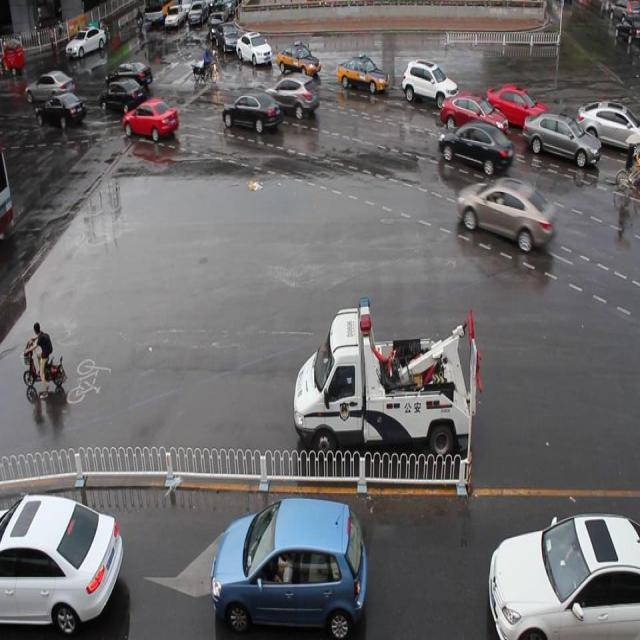bus: (286, 303, 478, 464)
car: (211, 492, 367, 640), (482, 507, 640, 640), (0, 490, 124, 640), (456, 170, 556, 255), (521, 104, 602, 171), (436, 121, 514, 176), (484, 77, 550, 132), (439, 88, 508, 137), (575, 99, 640, 151), (402, 54, 459, 110), (123, 96, 183, 145), (263, 73, 318, 123), (337, 50, 392, 100), (222, 91, 282, 134), (276, 38, 322, 77), (236, 25, 272, 73), (216, 24, 239, 56)
